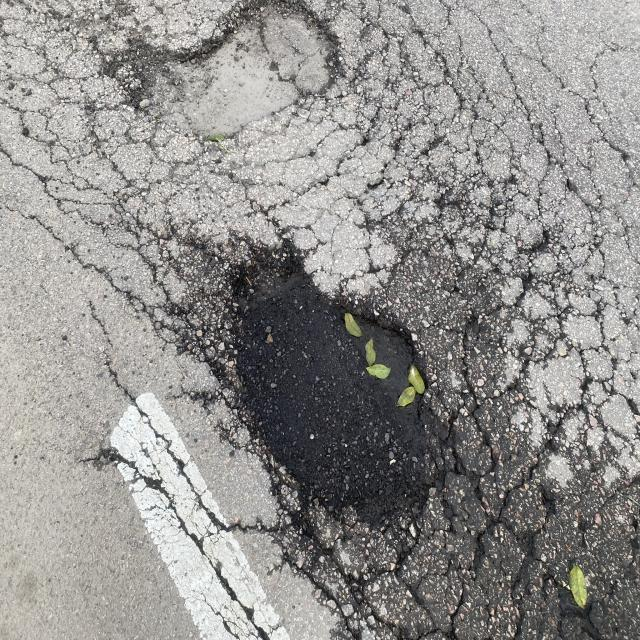Pothole: (200, 220, 493, 536), (91, 0, 352, 126)
